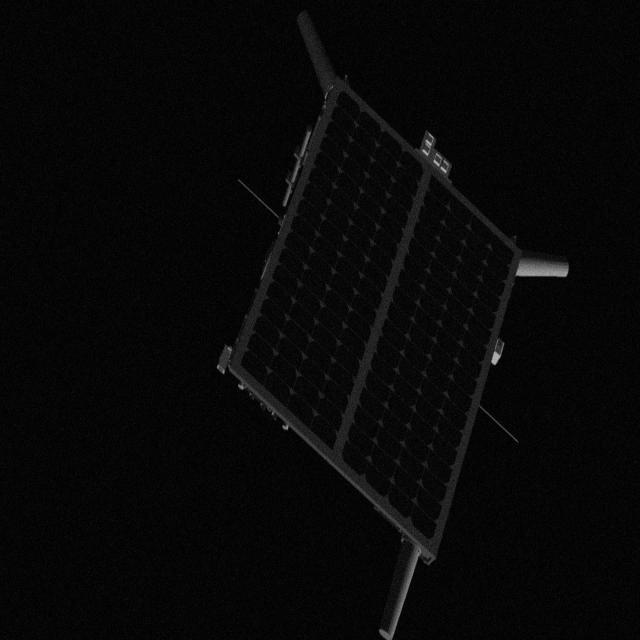satellite: (210, 14, 584, 638)
